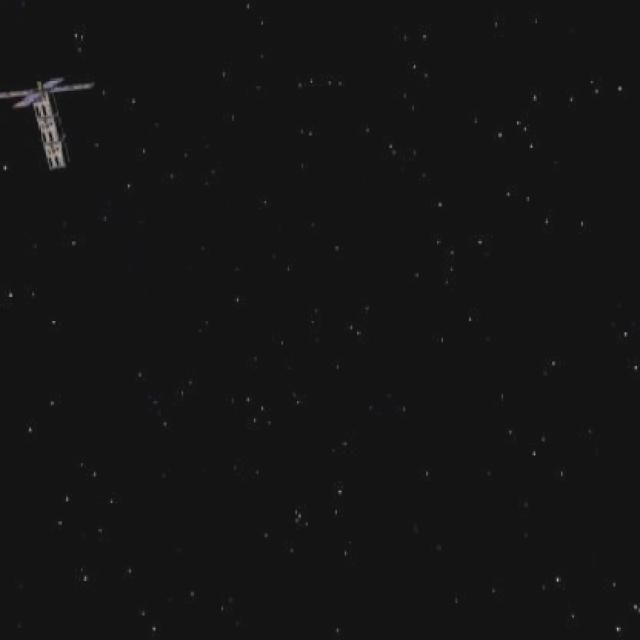satellite: (0, 63, 112, 177)
